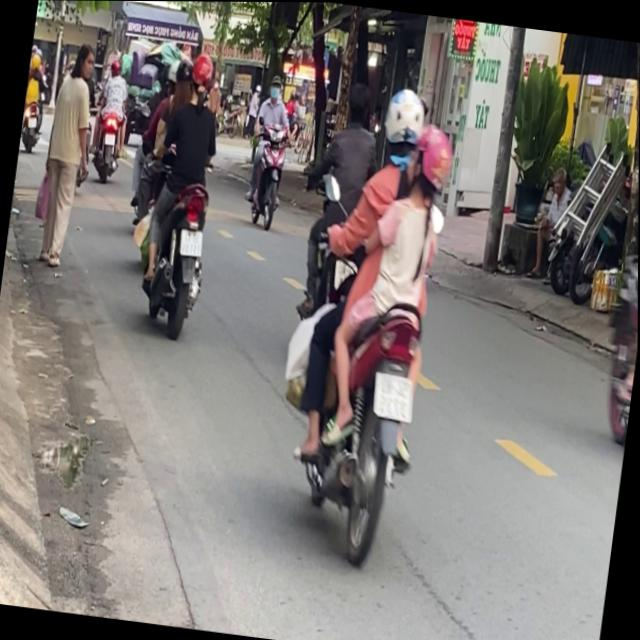helmet: (379, 82, 430, 167), (410, 120, 457, 203), (187, 49, 218, 102)
licenseplate: (263, 71, 468, 565), (123, 41, 235, 338), (293, 73, 388, 334)
motorcyclist: (342, 78, 374, 126)
nohelmet: (372, 370, 416, 418), (179, 227, 204, 255)
